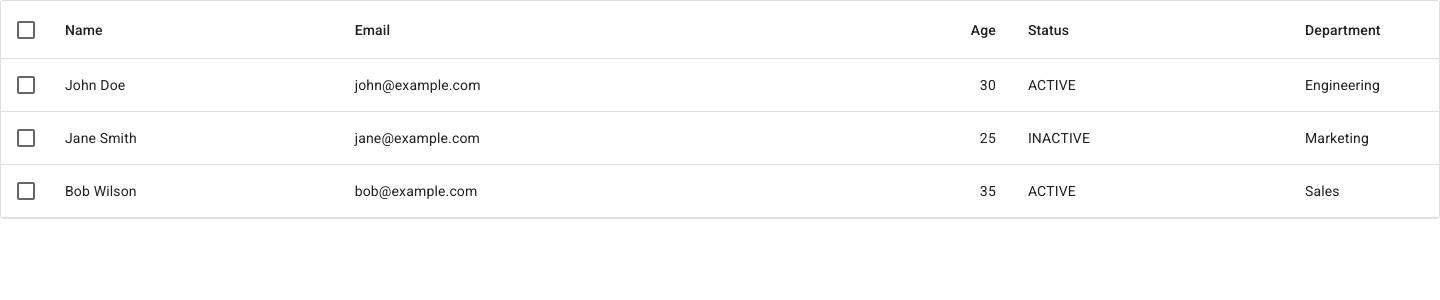
Scenario: DataTable › Selection › should show selection toolbar when items selected
This screenshot has width=1440, height=300.
Click the checkbox labelled "John Doe john@example.com 30 ACTIVE Engineering".
click(720, 86)  # box 1,59 -> 1439,112
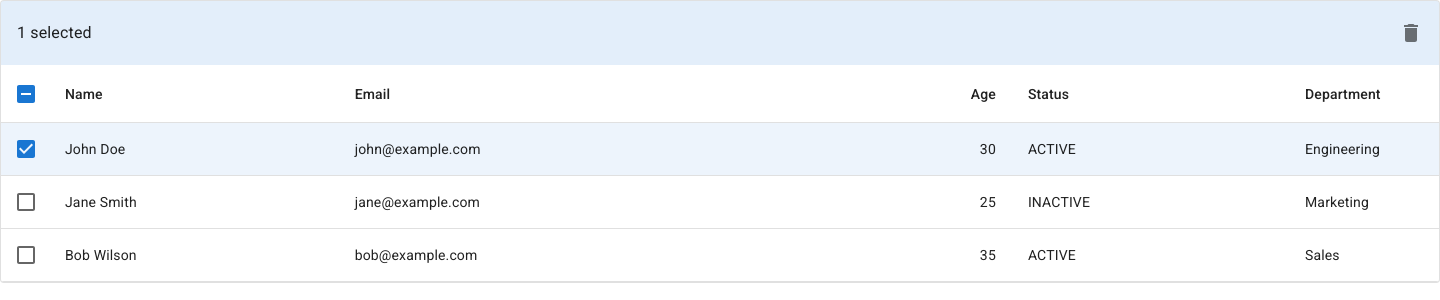
Check: the text "1 selected" is shown, box 17,23 -> 92,42
